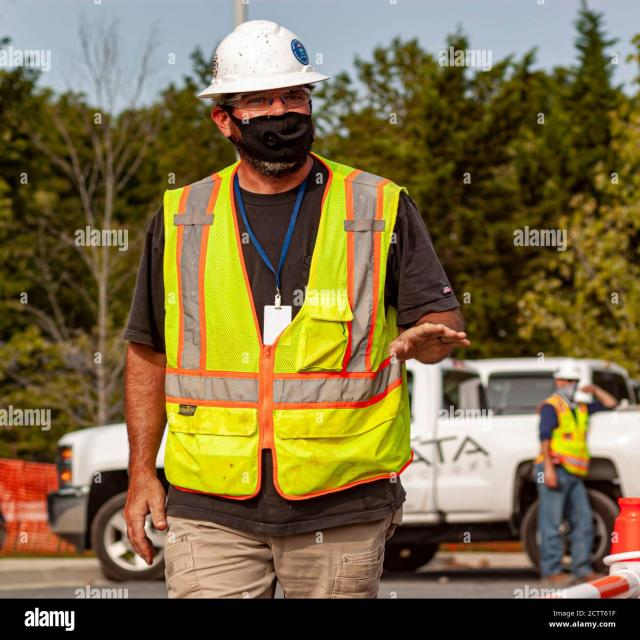goggles: (228, 83, 324, 112)
helmet: (175, 1, 355, 96), (545, 361, 593, 392)
vest: (143, 169, 422, 500), (536, 393, 602, 488)
